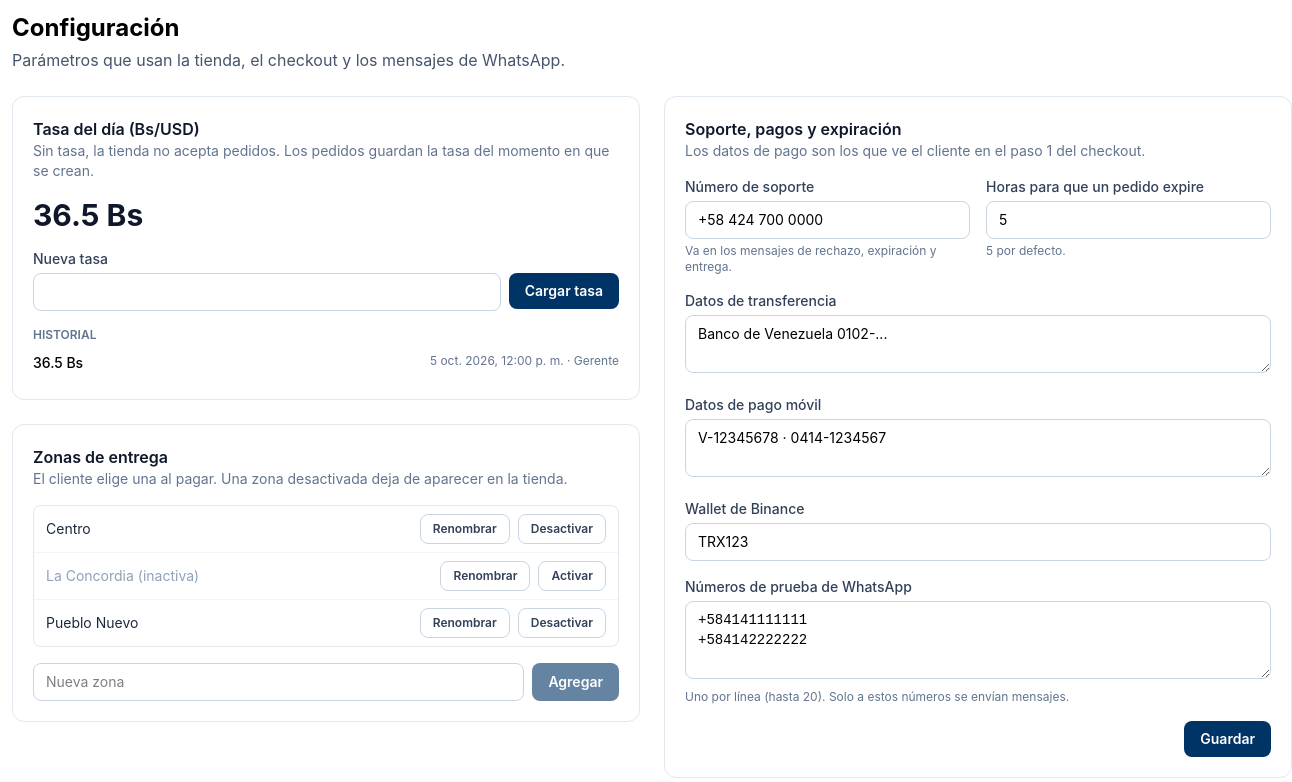
Configuracion: zonas de entrega › agrega una zona con el nombre sin espacios sobrantes
Check: the text "Centro" is shown, box x1=46 y1=520 x2=91 y2=537
In the field with placeholder "Nueva zona": x=279, y=682 x1=33 y1=663 x2=524 y2=701, type "  Barrio Sucre "
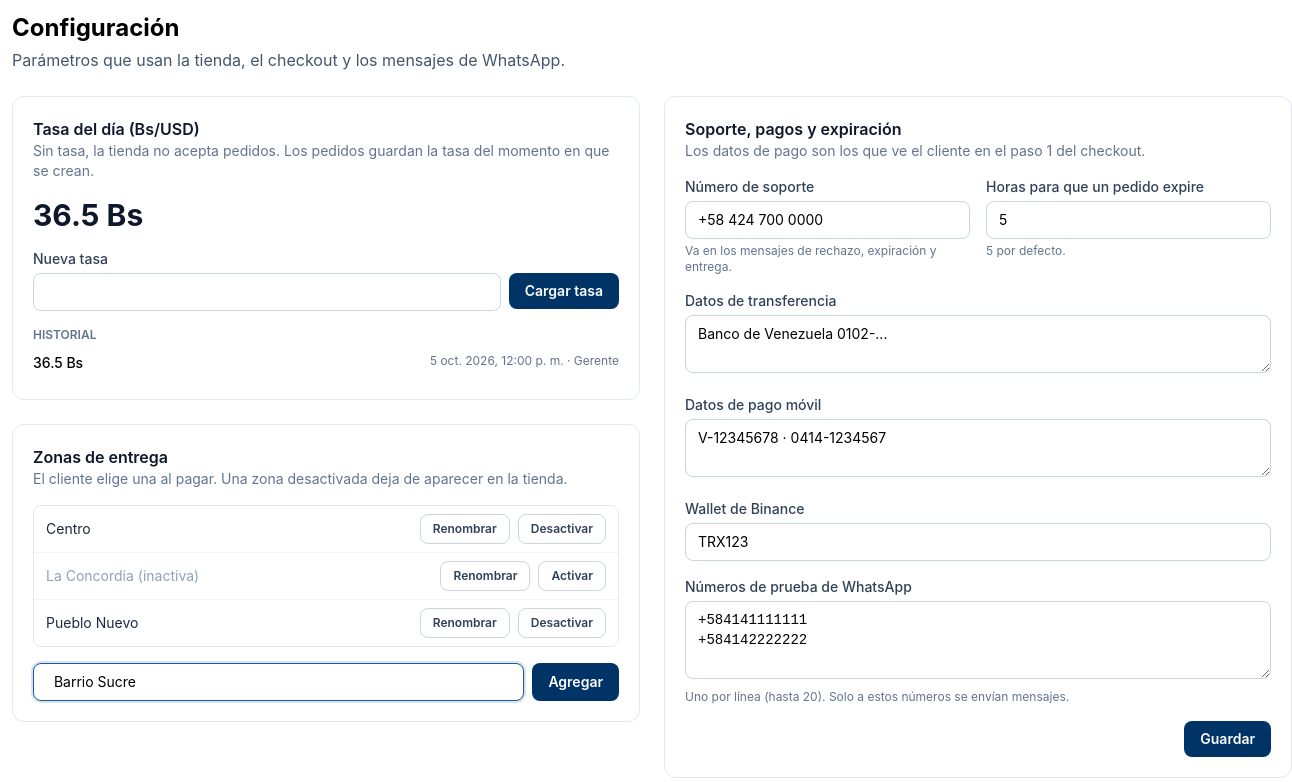
Click the button "Agregar": x=576, y=682 x1=532 y1=663 x2=619 y2=701
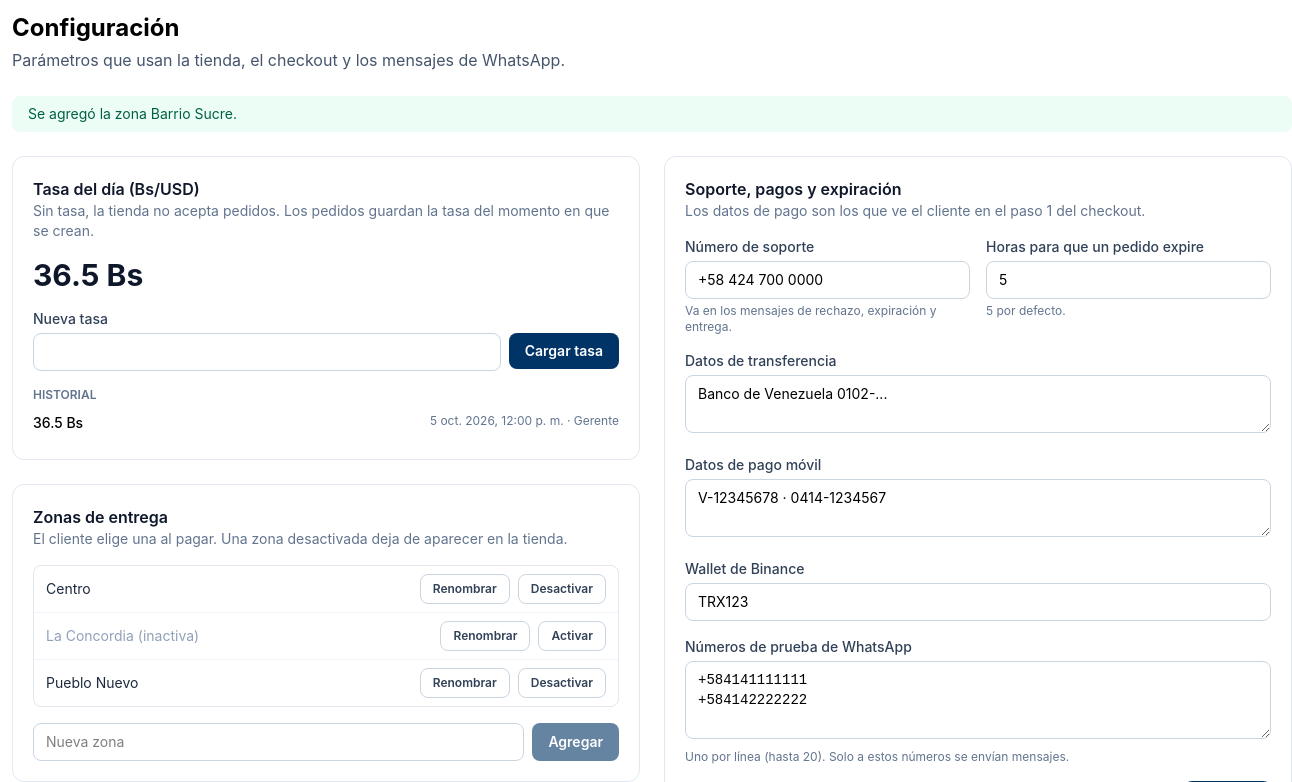
Check: the message reads "Se agregó la zona Barrio Sucre.", box x1=28 y1=105 x2=237 y2=122
Check: the field named "Nombre de la nueva zona" is empty, box x1=33 y1=723 x2=524 y2=761
